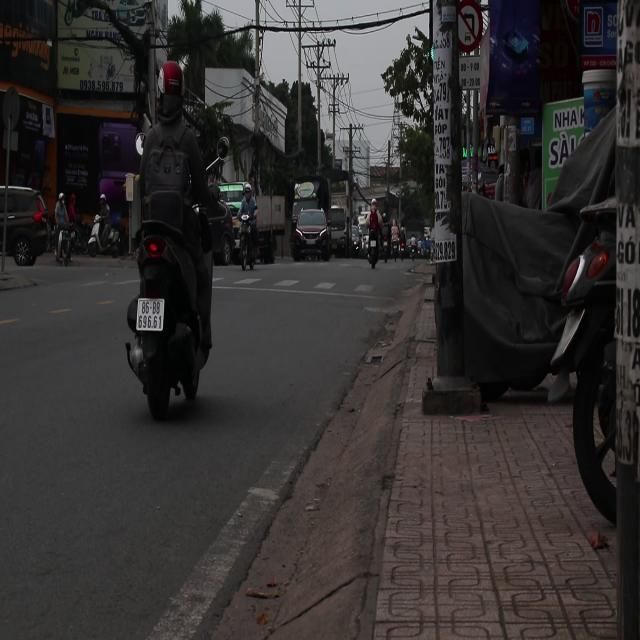car: (0, 188, 50, 266), (291, 210, 332, 262)
motorbike: (122, 230, 203, 418), (237, 208, 259, 276), (86, 218, 120, 260), (56, 224, 70, 273), (368, 227, 380, 265)
